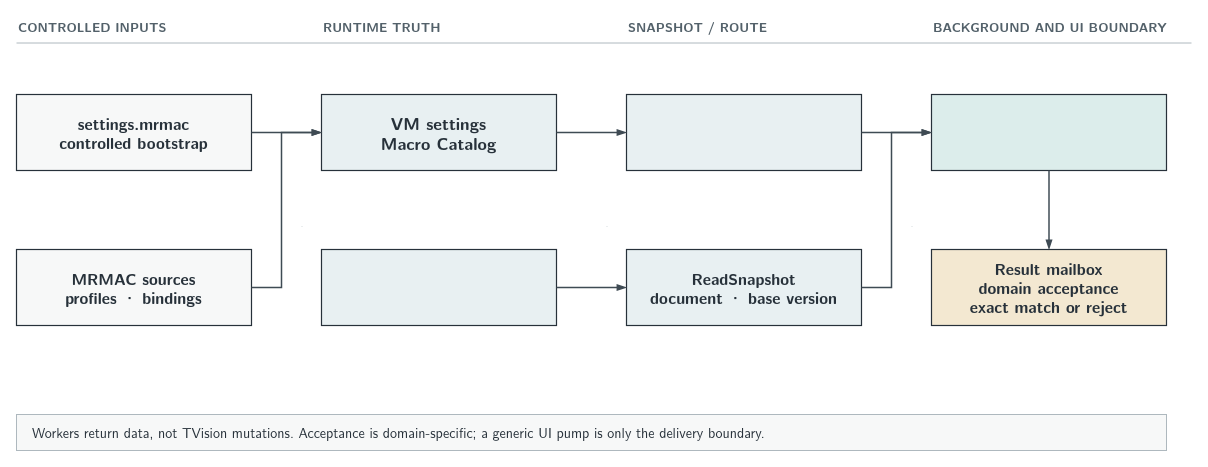
The diagram is 1208 pixels wide and 467 high, and some of its shapes have lost their labels. Here are the shapes that lost their labels. From the top down, the centre of each, then its label:
pixel 743 132: Macro runner normal-session route
pixel 1048 132: Coprocessor lanes I/O · compute · minimap macro: 1 worker
pixel 438 287: TextDocument live versioned model
